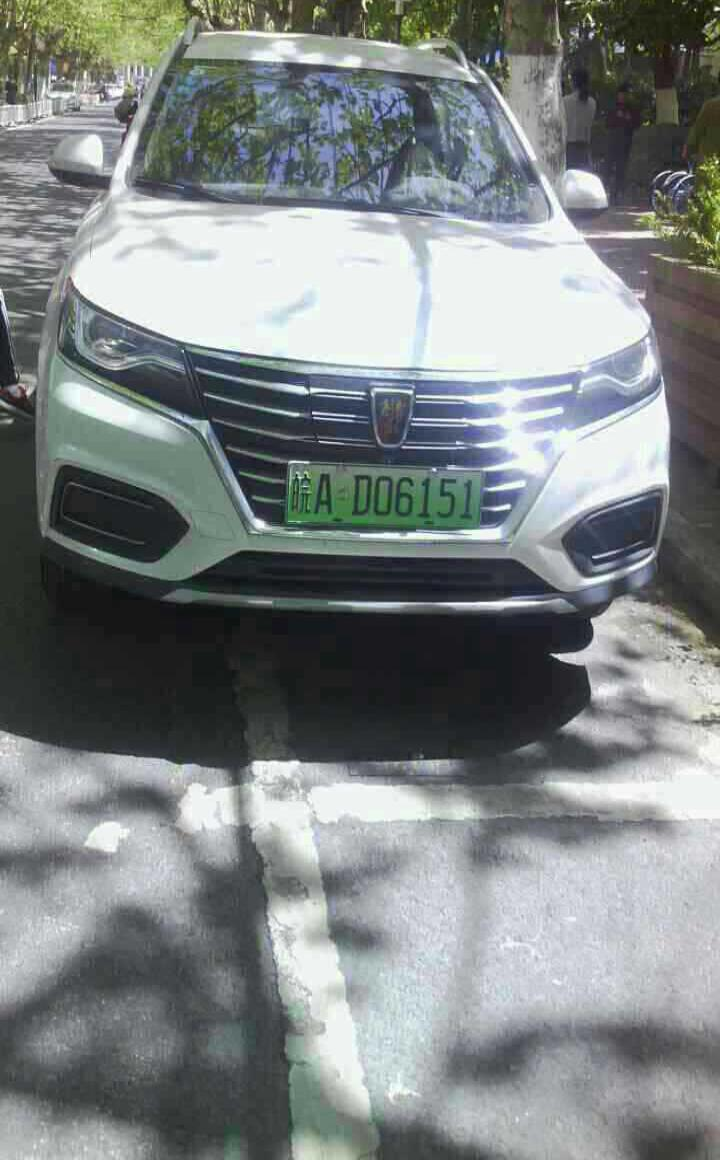car: (278, 455, 488, 533)
